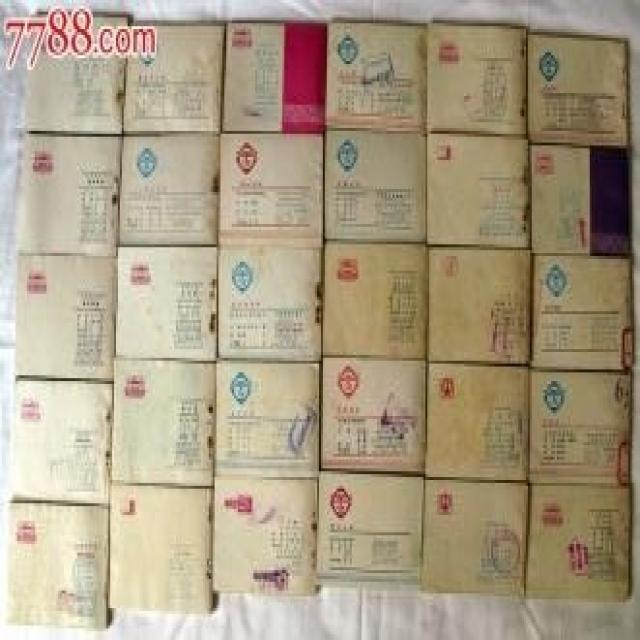box: (110, 358, 217, 486), (21, 128, 124, 256), (423, 477, 530, 599), (213, 358, 319, 480), (17, 253, 118, 381), (524, 483, 632, 602), (425, 361, 530, 483), (10, 378, 112, 503), (8, 503, 110, 628), (317, 471, 425, 588), (321, 239, 427, 358), (319, 355, 425, 474), (108, 486, 211, 608), (218, 131, 325, 247), (425, 134, 532, 250), (429, 244, 532, 364), (211, 477, 319, 591), (27, 15, 130, 134), (218, 247, 325, 361), (528, 367, 630, 486), (116, 247, 218, 364), (220, 23, 327, 134), (118, 134, 222, 247), (532, 250, 628, 369), (325, 23, 427, 134), (325, 131, 427, 241), (427, 26, 528, 137), (124, 23, 224, 134), (528, 35, 626, 145), (532, 137, 590, 253)
